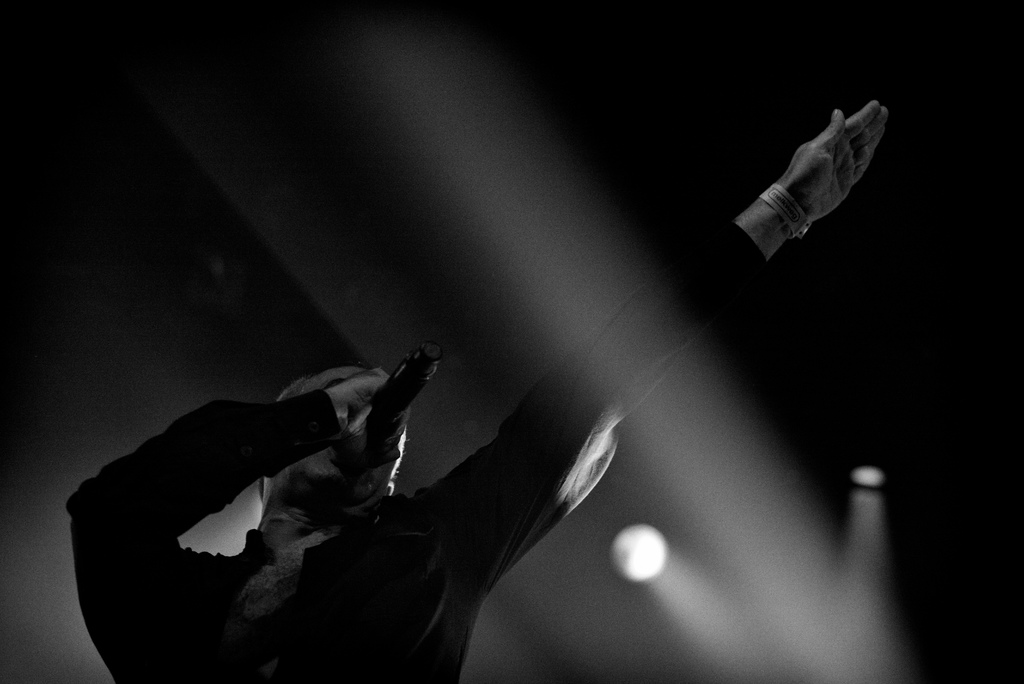Human_hand: (712, 94, 900, 262), (323, 366, 411, 473)
